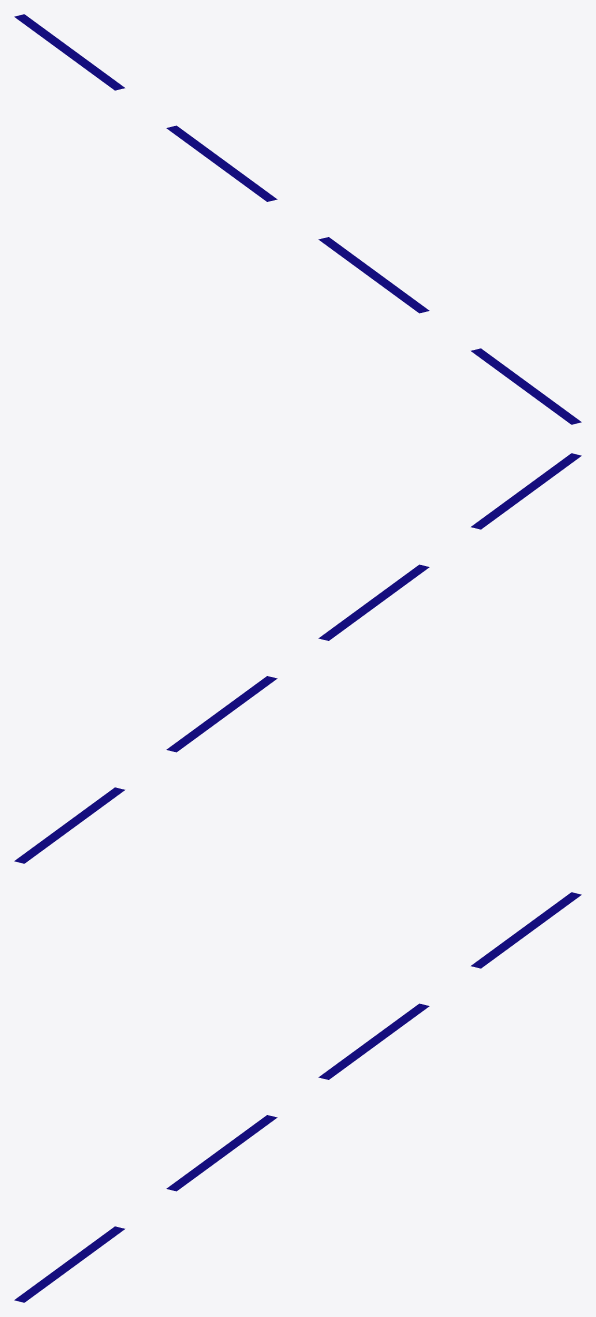
The model's file is ZE_lane_1_and_relays_not_run_in_lanes.FBX.
3 views of the same model, one above another, from view 1: azimuth 30°, elevation 25°; view 2: azimuth 150°, elevation 25°; view 3: azimuth 330°, elevation 25° (orthographic).
Visible parts, largest first — view 1: ZE_lane_1_and_relays_not_run_in_lanes; view 2: ZE_lane_1_and_relays_not_run_in_lanes; view 3: ZE_lane_1_and_relays_not_run_in_lanes.
Part boxes in pixels (x1=…): ZE_lane_1_and_relays_not_run_in_lanes: x1=14, y1=14, x2=581, y2=424; ZE_lane_1_and_relays_not_run_in_lanes: x1=14, y1=453, x2=581, y2=863; ZE_lane_1_and_relays_not_run_in_lanes: x1=14, y1=892, x2=581, y2=1302.
Size of the model in its own units: 0.5021 by 2.98e-08 by 46.29.
